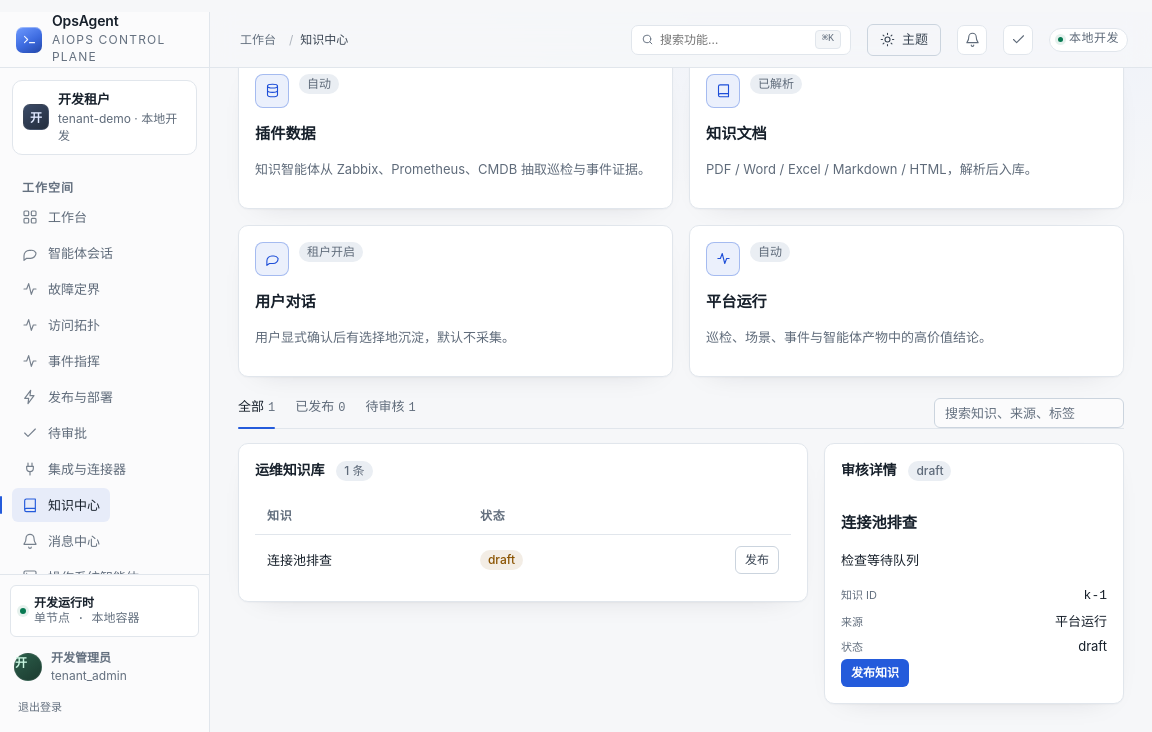
Test: Knowledge › lists documents and publishes one
The width and height of the screenshot is (1152, 732).
(page scrolled)
Expected: the text "连接池排查" is shown, [255, 535, 468, 585]
What coordinates should you click on to do the following:
click the button "发布"
I would click on:
 (757, 560)
Its box is [735, 546, 779, 574].
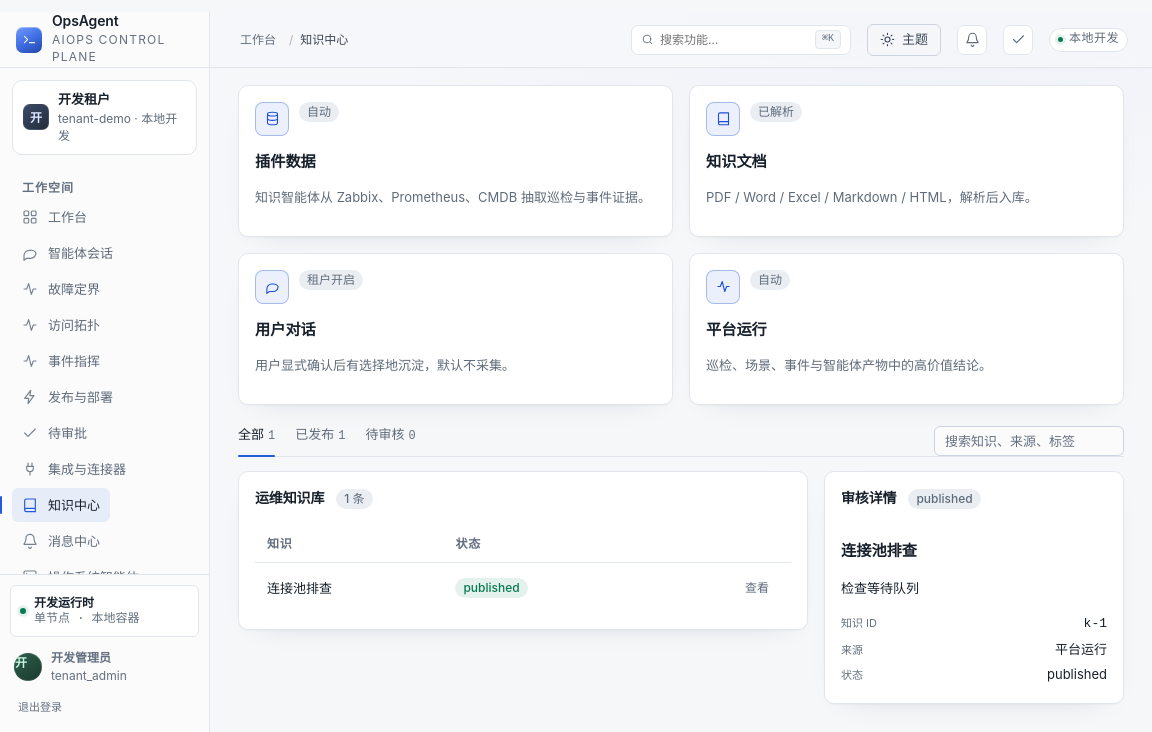
Expected: the text "published" below "运维知识库" is shown, [463, 580, 520, 595]
